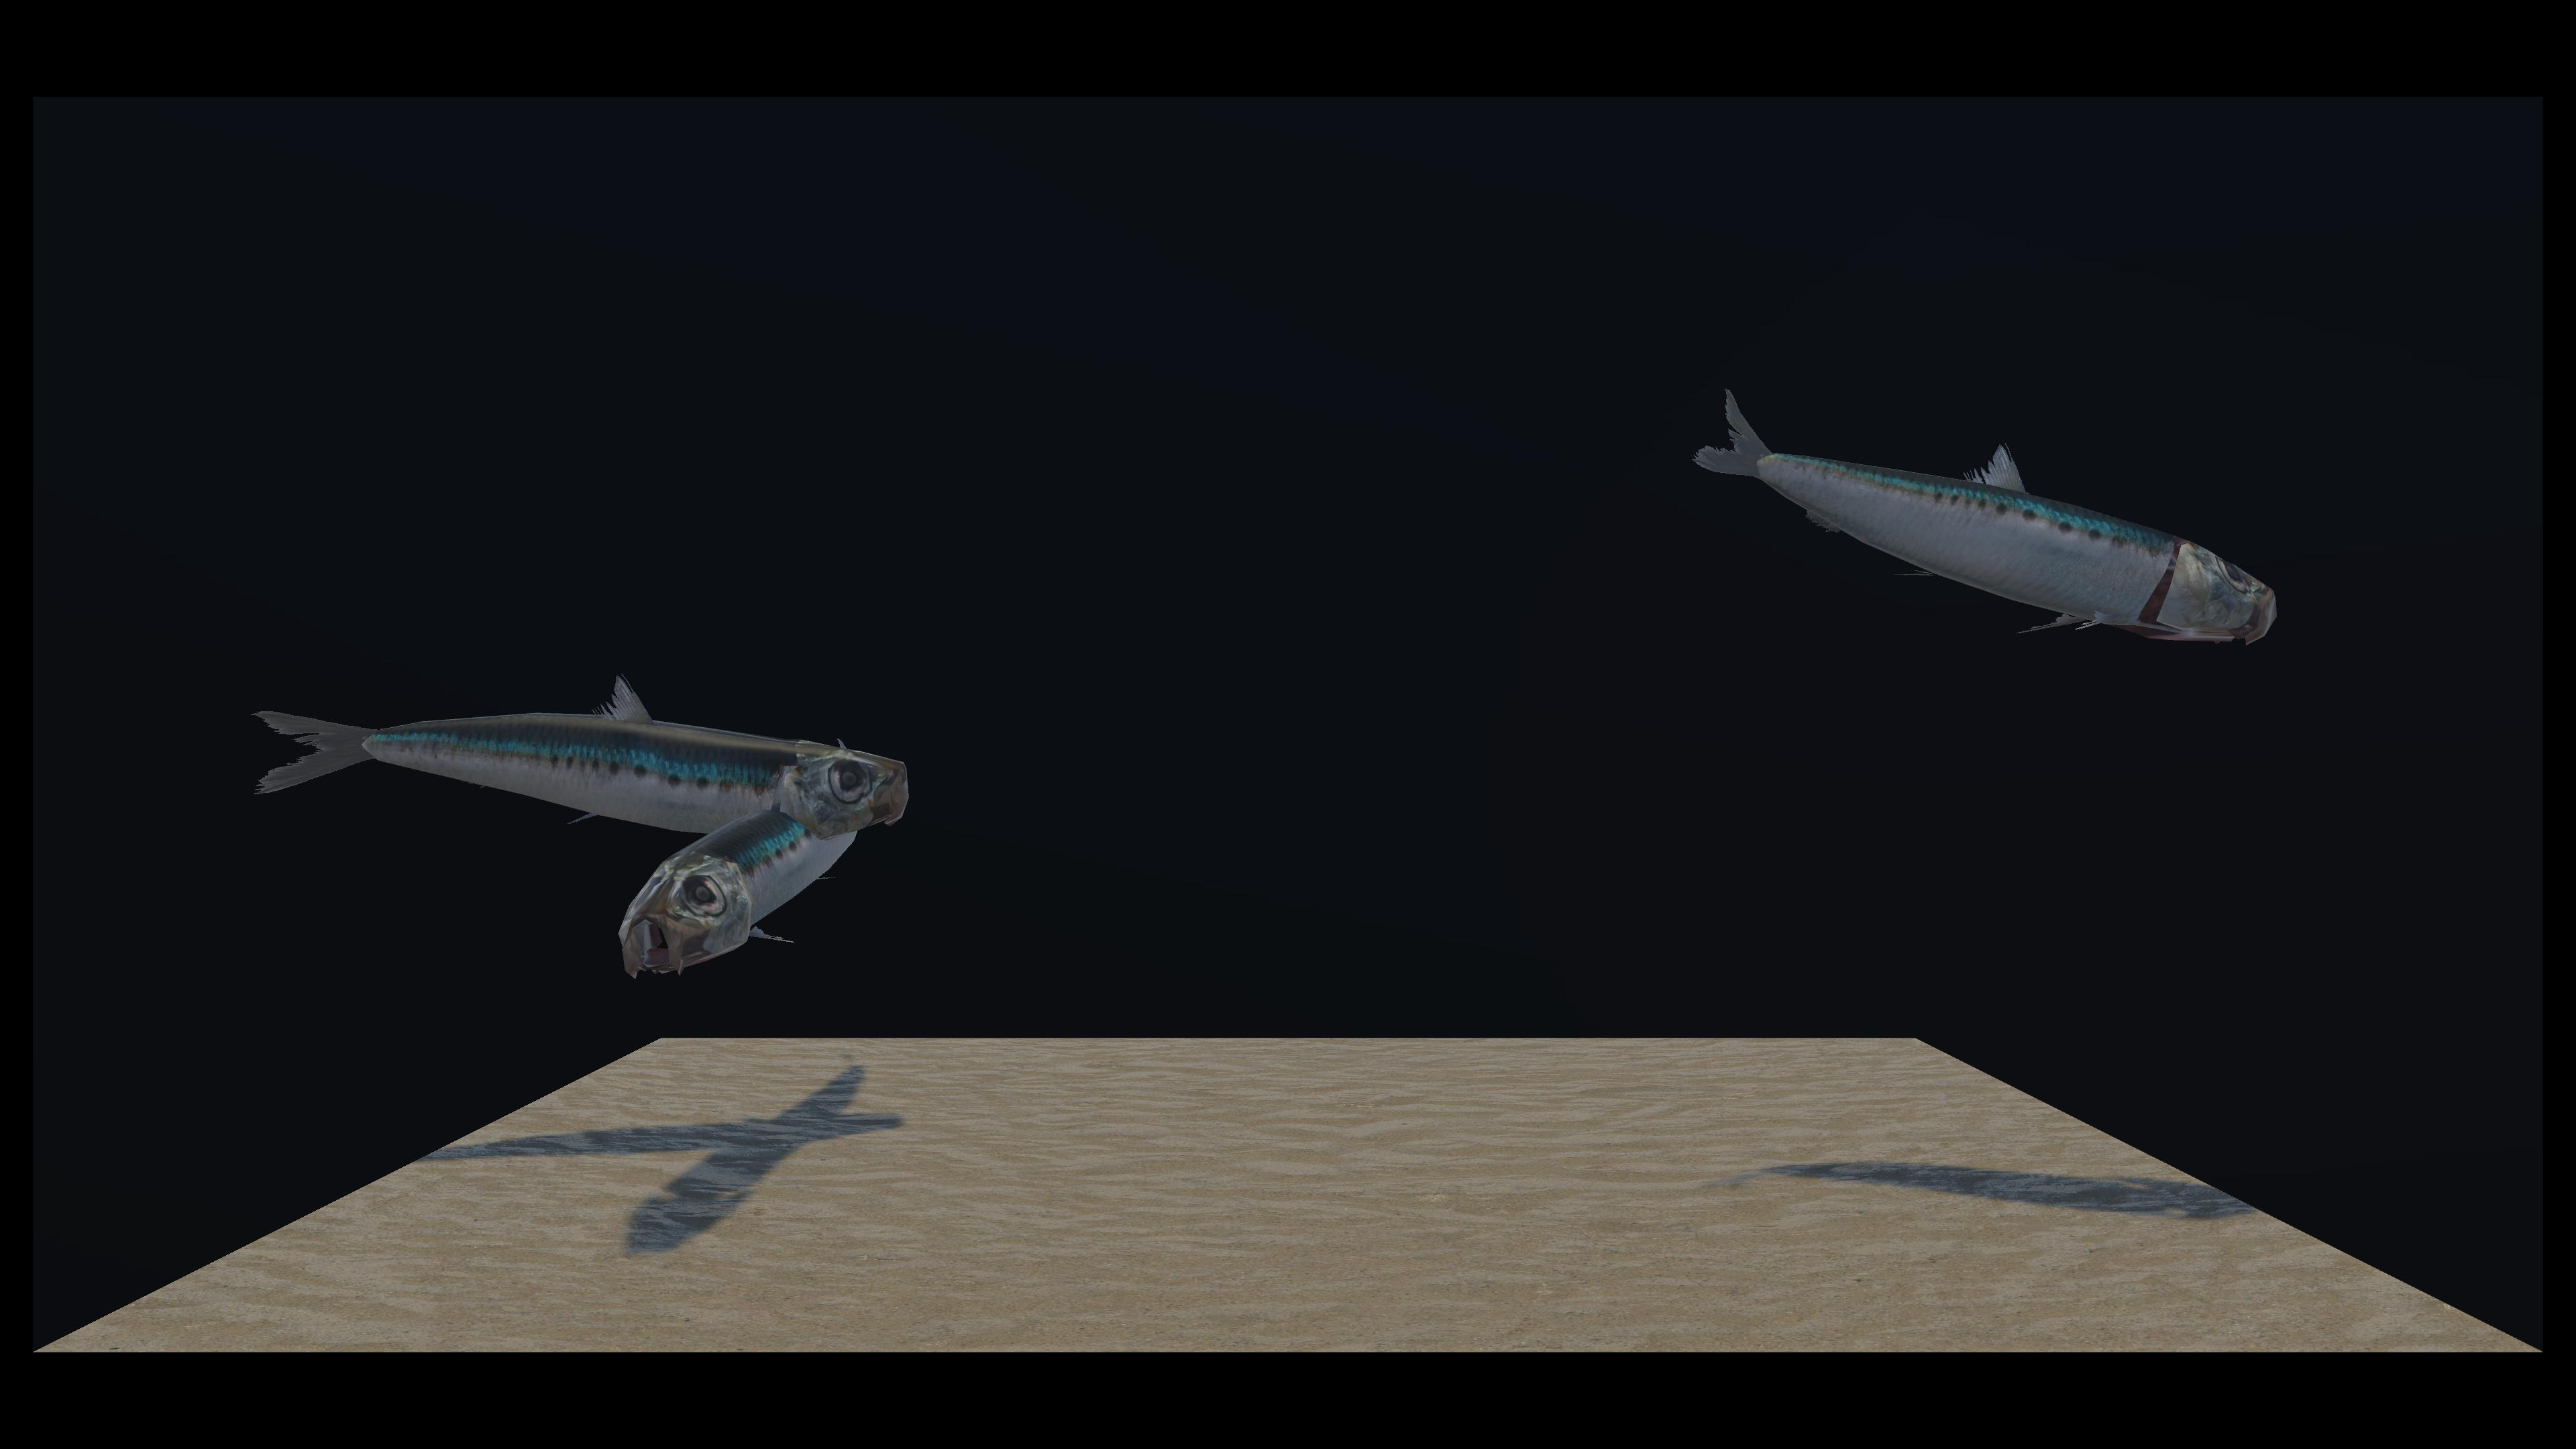Sardine_Front: (892, 387, 2261, 644), (265, 410, 932, 879), (506, 387, 858, 955)
